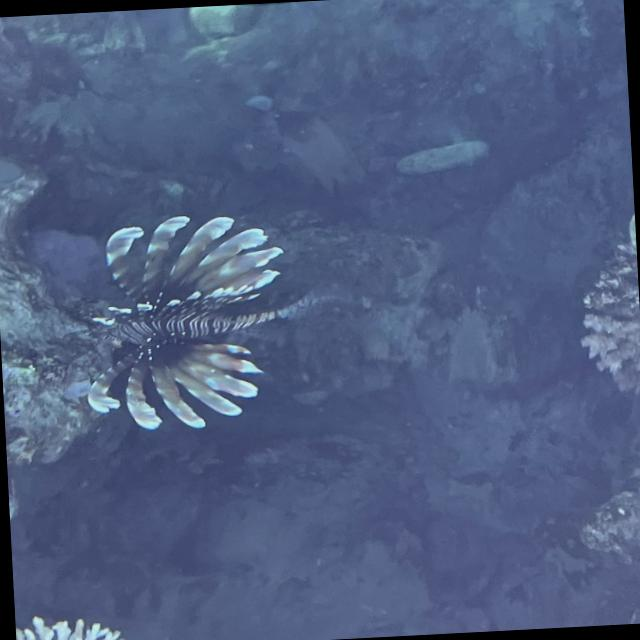Aslan Baligi: (75, 208, 296, 436)
